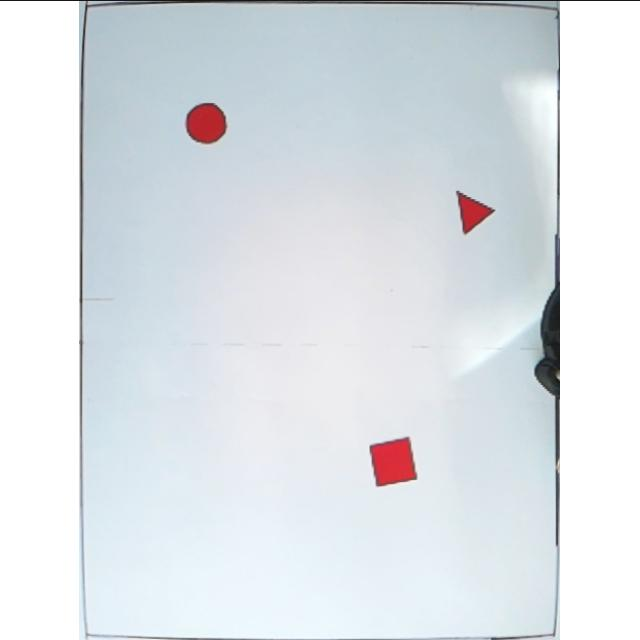redCircle: (185, 102, 229, 144)
redSquare: (370, 434, 420, 488)
redTriangle: (452, 190, 498, 234)
